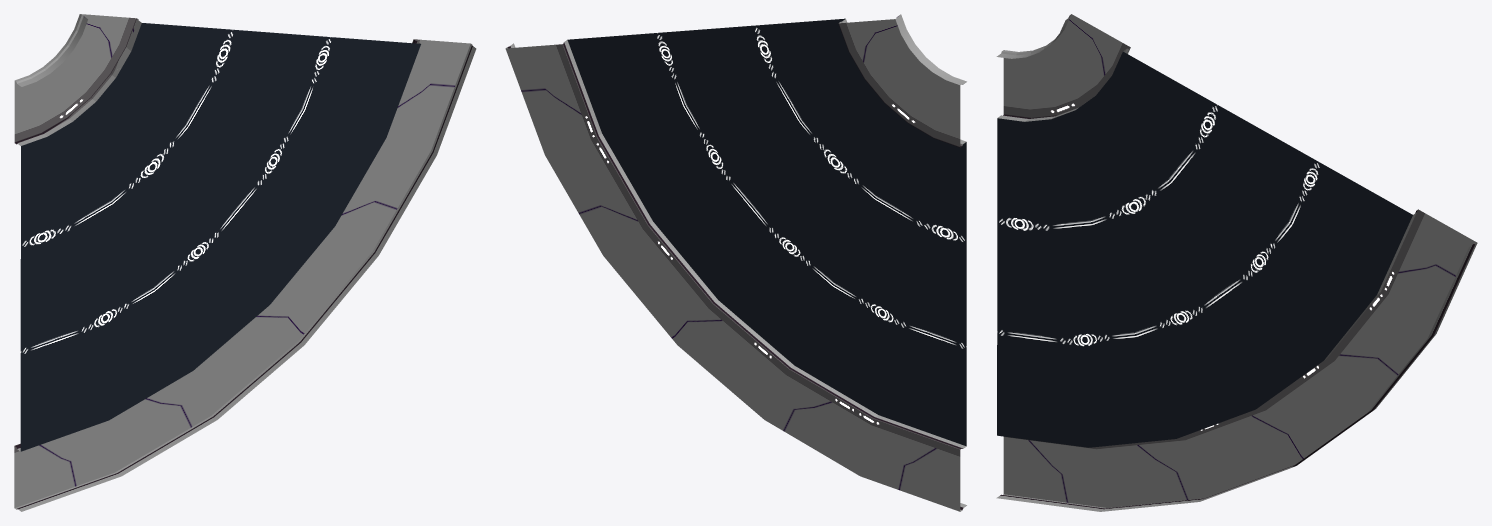
Rendered from SM_M_Road90 1.fbx.
The picture shows the model from 3 angles, left to right: view 1: azimuth 30°, elevation 25°; view 2: azimuth 150°, elevation 25°; view 3: azimuth 330°, elevation 25°; orthographic projection. The views are drawn at different scales.
Visible parts, largest first — view 1: SM_M_Road90; view 2: SM_M_Road90; view 3: SM_M_Road90.
Part boxes in pixels (<box>): SM_M_Road90: <box>14,14,476,511</box>; SM_M_Road90: <box>505,14,966,511</box>; SM_M_Road90: <box>996,14,1477,511</box>.
Size of the model in its own units: 4396 by 119 by 4404.
